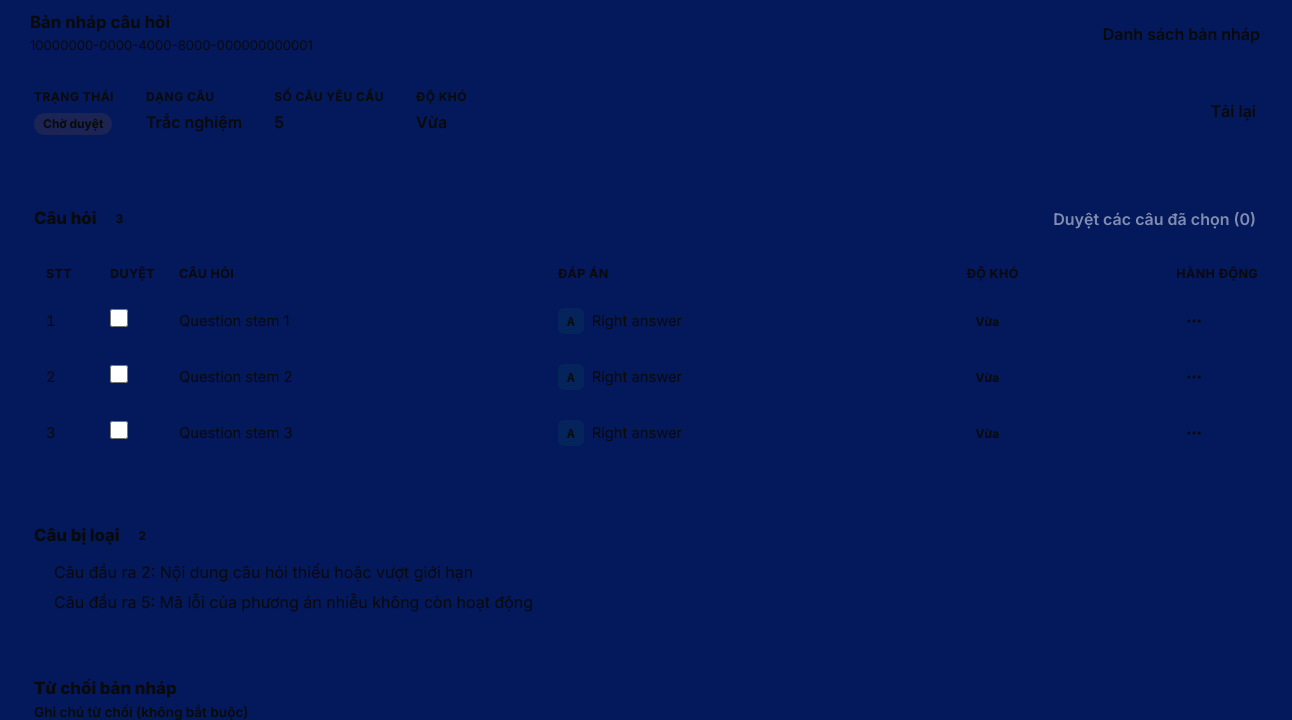
Test: AiDraftDetailPage › shows usable questions separately from rejected outputs and approves zero-based item indexes
Click the checkbox named "Chọn câu 1 để duyệt": (119,318) [110,309,128,327]
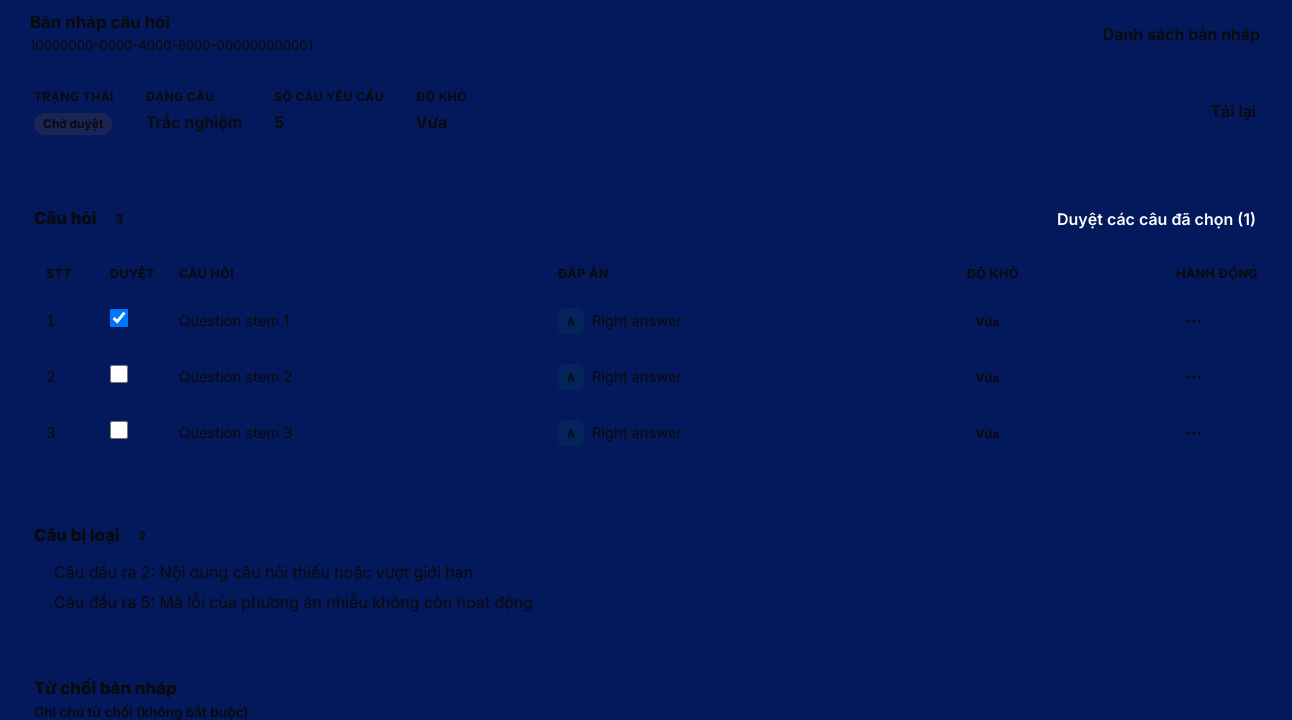
Click the checkbox named "Chọn câu 3 để duyệt": (119,430) [110,421,128,439]
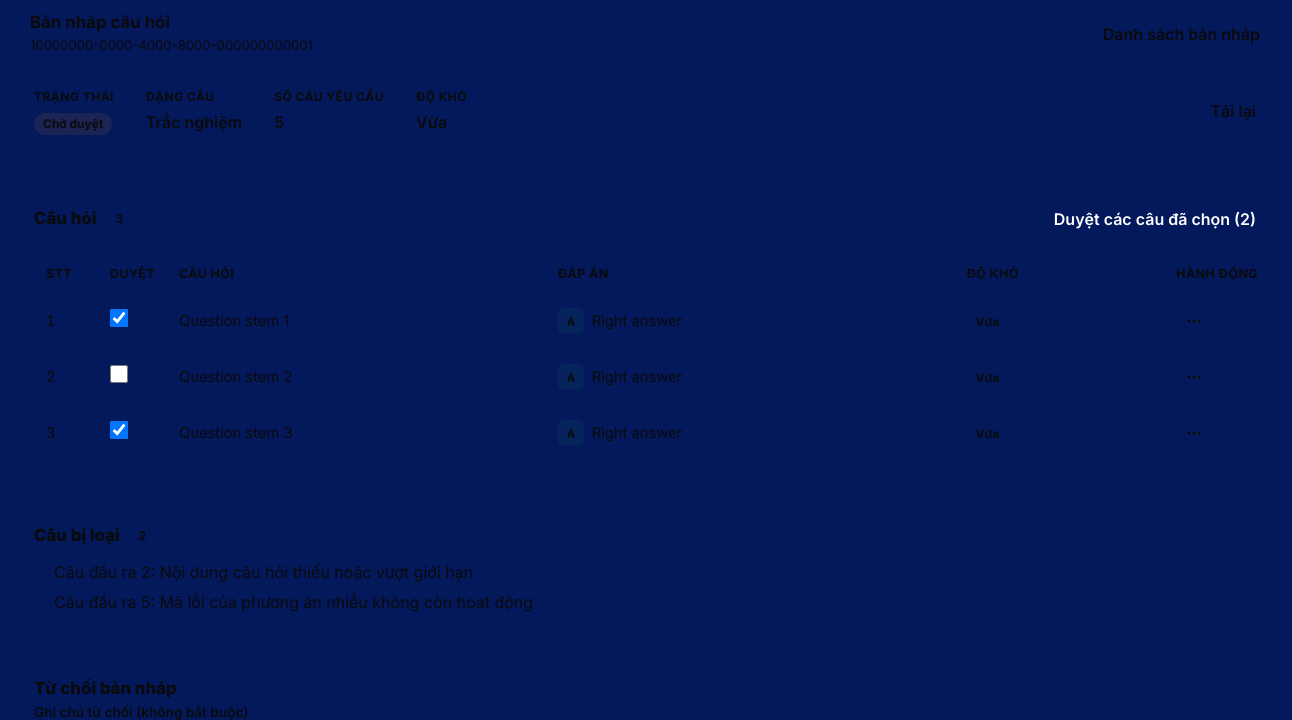
expect the number of checkboxes is 3: met, box [110,309,128,327]; [110,365,128,383]; [110,421,128,439]
expect the list item "Câu đầu ra 5: Mã lỗi của phương án nhiễu không còn hoạt động" is shown: met, box [54,592,533,612]
Click the button "Duyệt các câu đã chọn (2)": (1155,218) [1040,196,1270,240]
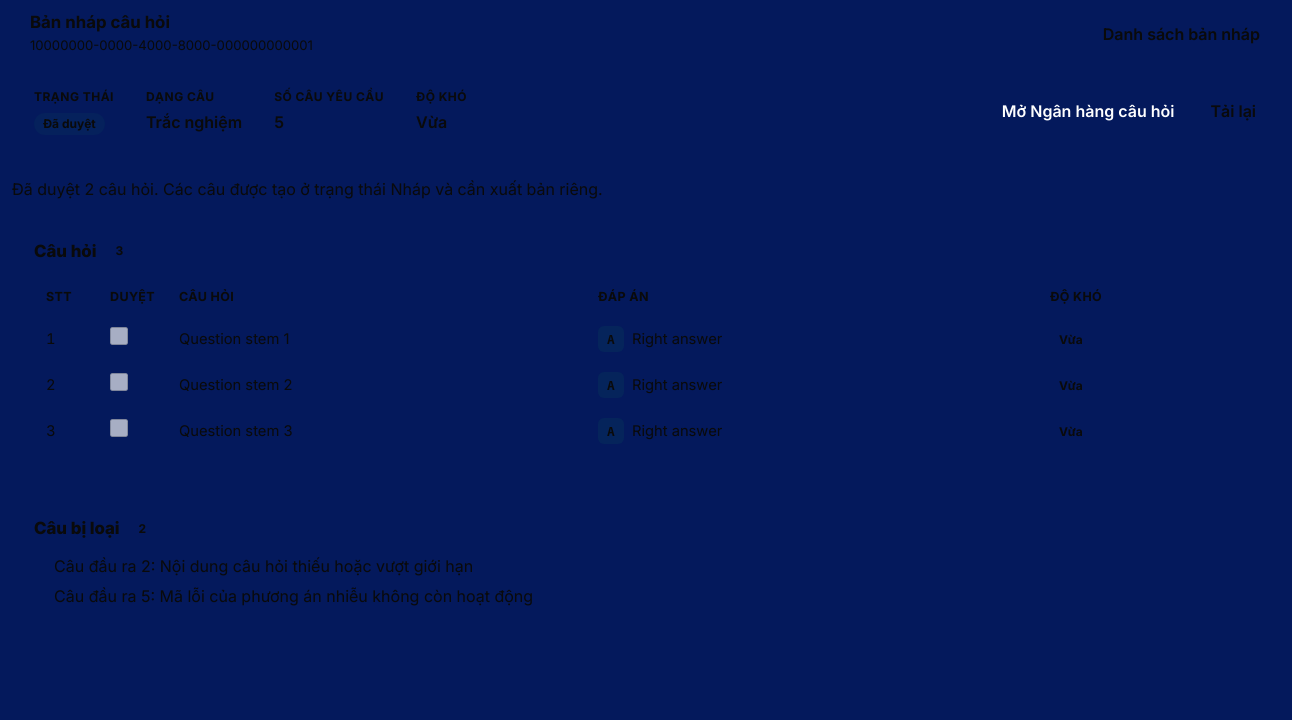
expect the text "Đã duyệt" is shown: met, box [34,112,105,134]
expect the button "Duyệt các câu đã chọn" is gone: met
